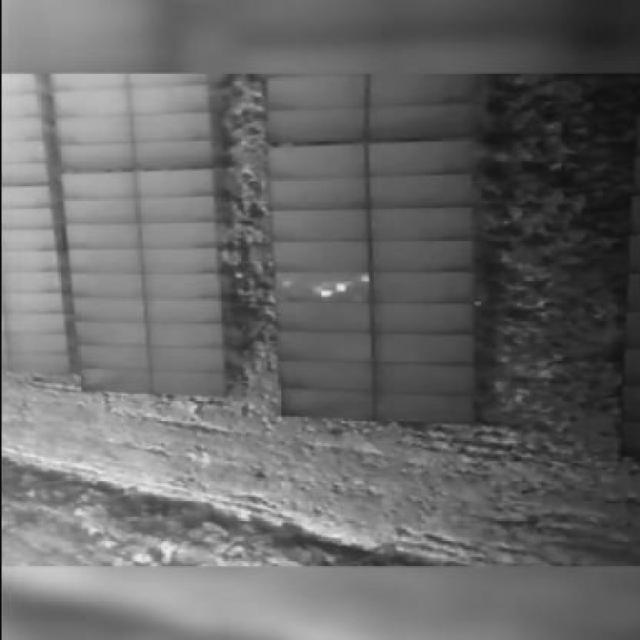hotspot: (330, 282, 347, 293), (315, 290, 330, 298), (357, 275, 371, 282)
